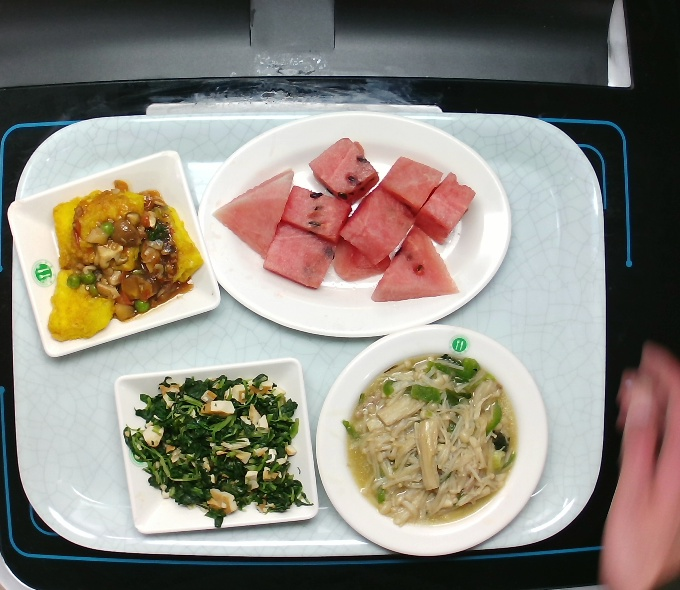wcq-CuiPiDouFu: (43, 174, 208, 346)
wcq-JinZhenGu: (340, 351, 522, 531)
wcq-MaLanTouChaoDouGan: (121, 372, 314, 531)
wcq-XiGua: (209, 134, 480, 309)
